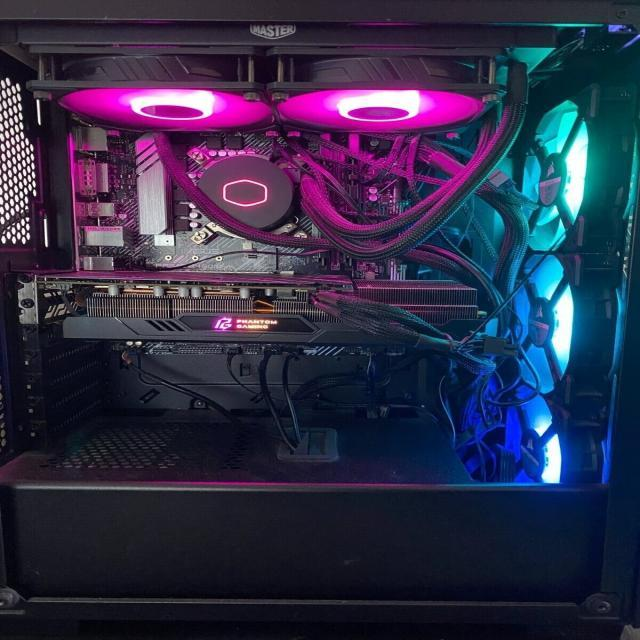Desktop-PC: (0, 16, 638, 630)
